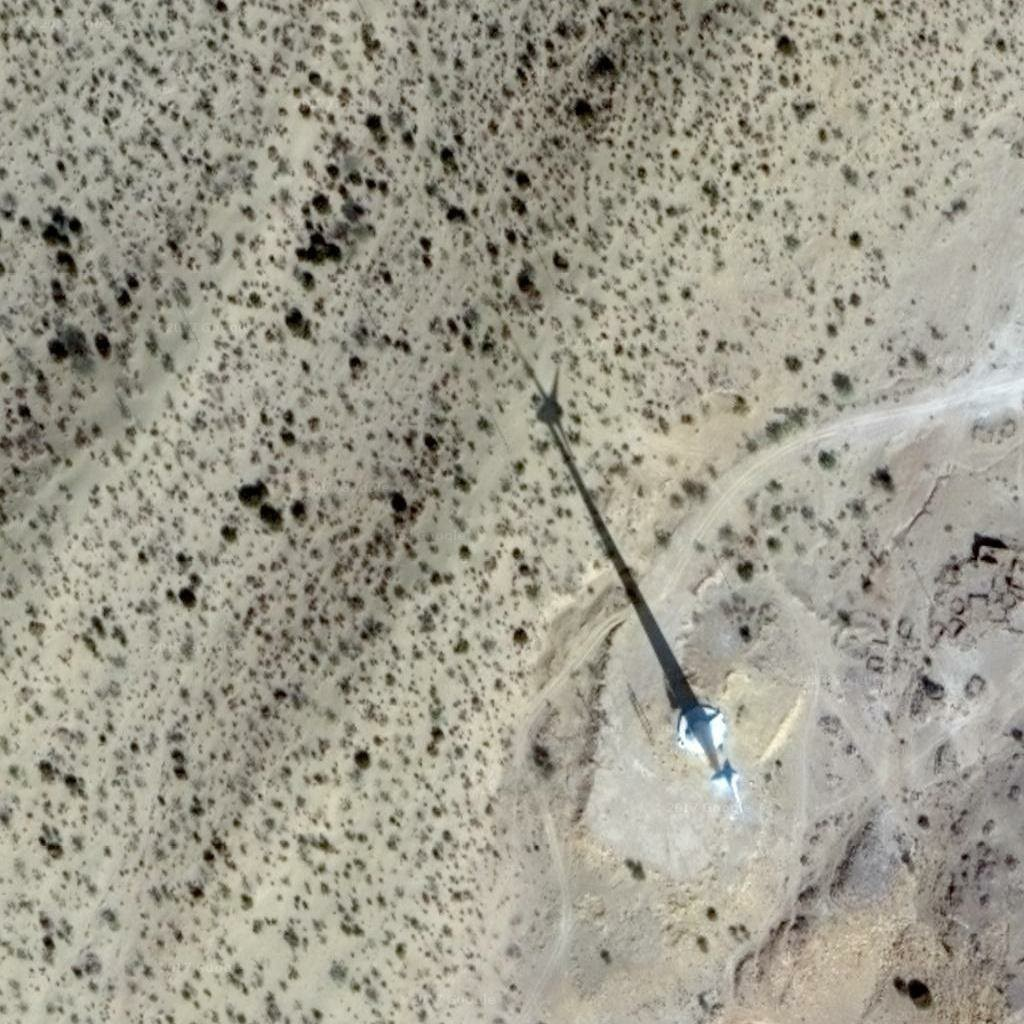Windmill: (497, 343, 693, 613)
